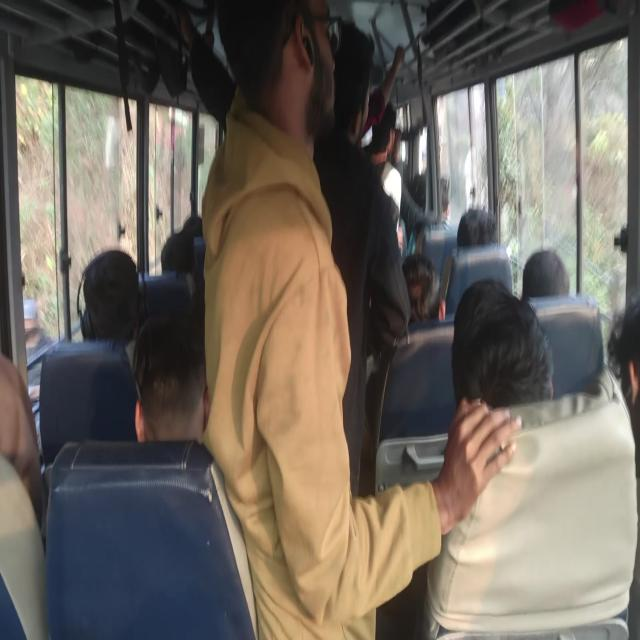person: (452, 272, 538, 450), (252, 0, 337, 146), (70, 230, 162, 337), (136, 314, 197, 444), (0, 359, 47, 467), (599, 311, 640, 423), (332, 43, 382, 129), (397, 269, 444, 336), (458, 214, 512, 258), (373, 105, 411, 165), (158, 220, 191, 277), (520, 252, 552, 304), (418, 198, 446, 250), (186, 205, 208, 260)
